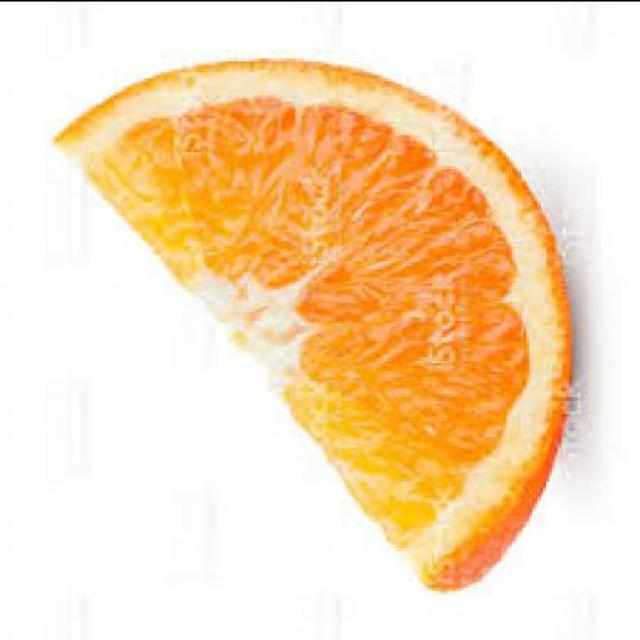BIODEGRADABLE: (49, 59, 572, 595)
